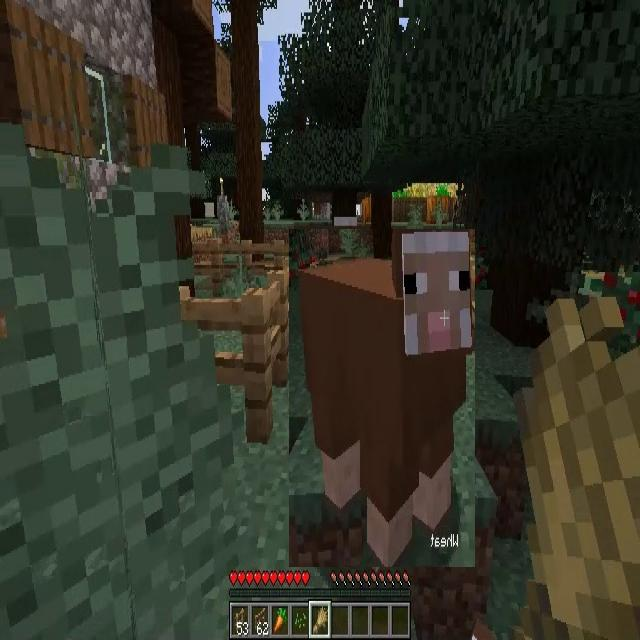sheep: (289, 230, 475, 568)
